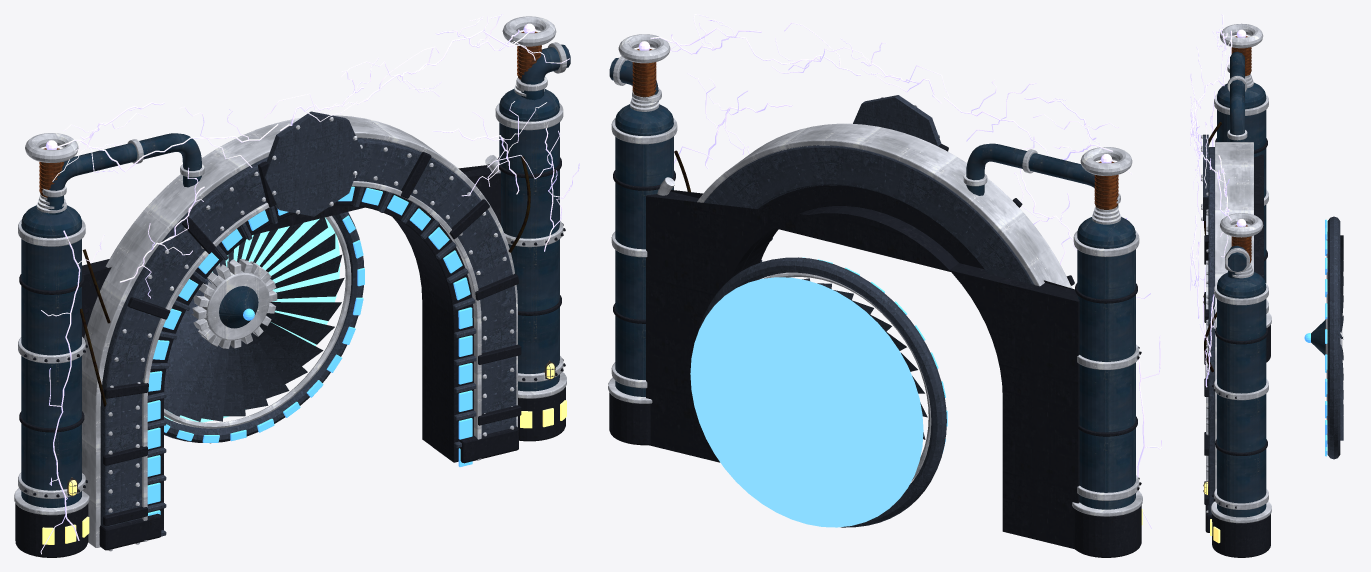
Rendered from fachada_05.glb.
3 renders of one model, left to right at view 1: azimuth 30°, elevation 25°; view 2: azimuth 150°, elevation 25°; view 3: azimuth 270°, elevation 25°, orthographic. The views are drawn at different scales.
Visible parts, largest first — view 1: F05_anel, F05_tur_pas, F05_tanque-1, F05_labio, F05_tanque1, F05_banda_int, F05_placa_med, F05_painel_luz, F05_raios, F05_junta, F05_fundo, F05_labio_int (+21 smaller); view 2: F05_fundo, F05_tur_brilho, F05_tanque-1, F05_anel, F05_labio, F05_tanque1, F05_tur_aro, F05_banda_int, F05_raios, F05_base-1, F05_cano_e, F05_placa_med (+7 smaller); view 3: F05_tanque1, F05_labio, F05_tur_aro, F05_raios, F05_anel, F05_base1, F05_tanque-1, F05_cano_e, F05_fundo, F05_cupula1, F05_toroide1, F05_toroide-1 (+17 smaller).
Part boxes in pixels (box(x1,y1,x2,y2)): F05_anel: box(100, 138, 516, 527); F05_tur_pas: box(164, 217, 344, 421); F05_tanque-1: box(21, 224, 81, 507); F05_labio: box(82, 115, 517, 547); F05_tanque1: box(499, 106, 559, 391); F05_banda_int: box(147, 186, 473, 530); F05_placa_med: box(264, 111, 363, 216); F05_painel_luz: box(147, 186, 472, 515); F05_raios: box(40, 14, 579, 554); F05_junta: box(103, 151, 521, 526); F05_fundo: box(82, 165, 500, 446); F05_labio_int: box(142, 181, 481, 541); F05_fundo: box(646, 190, 1079, 548); F05_tur_brilho: box(690, 277, 923, 527); F05_tanque-1: box(1077, 235, 1135, 509); F05_anel: box(703, 145, 1034, 284); F05_labio: box(697, 123, 1071, 288); F05_tanque1: box(615, 122, 673, 396); F05_tur_aro: box(698, 257, 946, 527); F05_banda_int: box(741, 185, 984, 271); F05_raios: box(650, 14, 1161, 528); F05_base-1: box(1073, 505, 1141, 557); F05_cano_e: box(966, 143, 1118, 207); F05_placa_med: box(853, 95, 941, 146); F05_tanque1: box(1217, 286, 1266, 517); F05_labio: box(1215, 142, 1253, 489); F05_tur_aro: box(1327, 216, 1340, 459); F05_raios: box(1190, 14, 1232, 387); F05_anel: box(1208, 147, 1214, 514); F05_base1: box(1212, 514, 1270, 557); F05_tanque-1: box(1217, 97, 1266, 282); F05_cano_e: box(1230, 51, 1244, 141); F05_fundo: box(1254, 154, 1263, 278); F05_cupula1: box(1217, 272, 1265, 295); F05_toroide1: box(1220, 213, 1263, 237); F05_toroide-1: box(1220, 23, 1263, 48).
Bounding box in the file's own units: 12.4 × 9.51 × 4.05.
11 materials, 7 textured.
